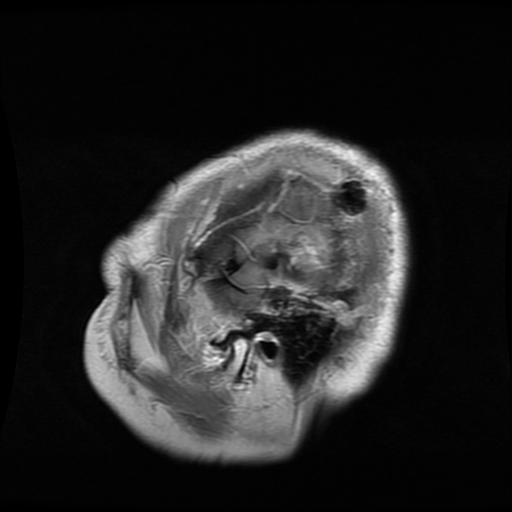Gliomia_tumour: (235, 217, 337, 271)
